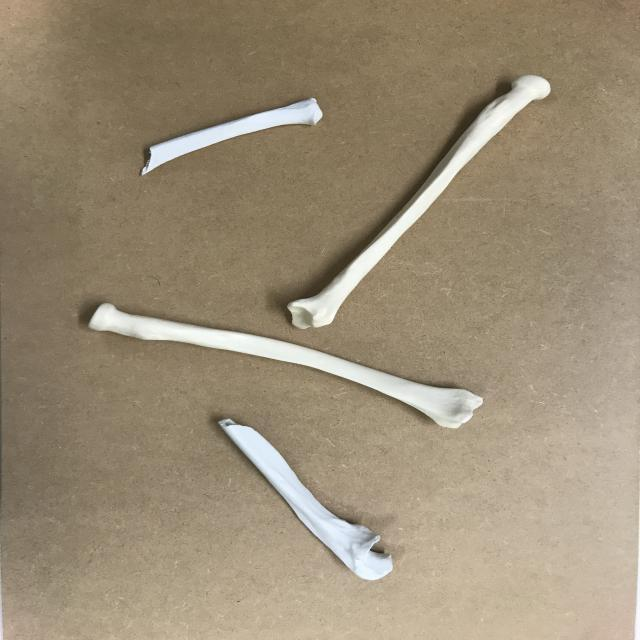bone: (290, 71, 561, 332), (76, 298, 489, 428), (212, 411, 402, 587), (138, 90, 332, 180)
